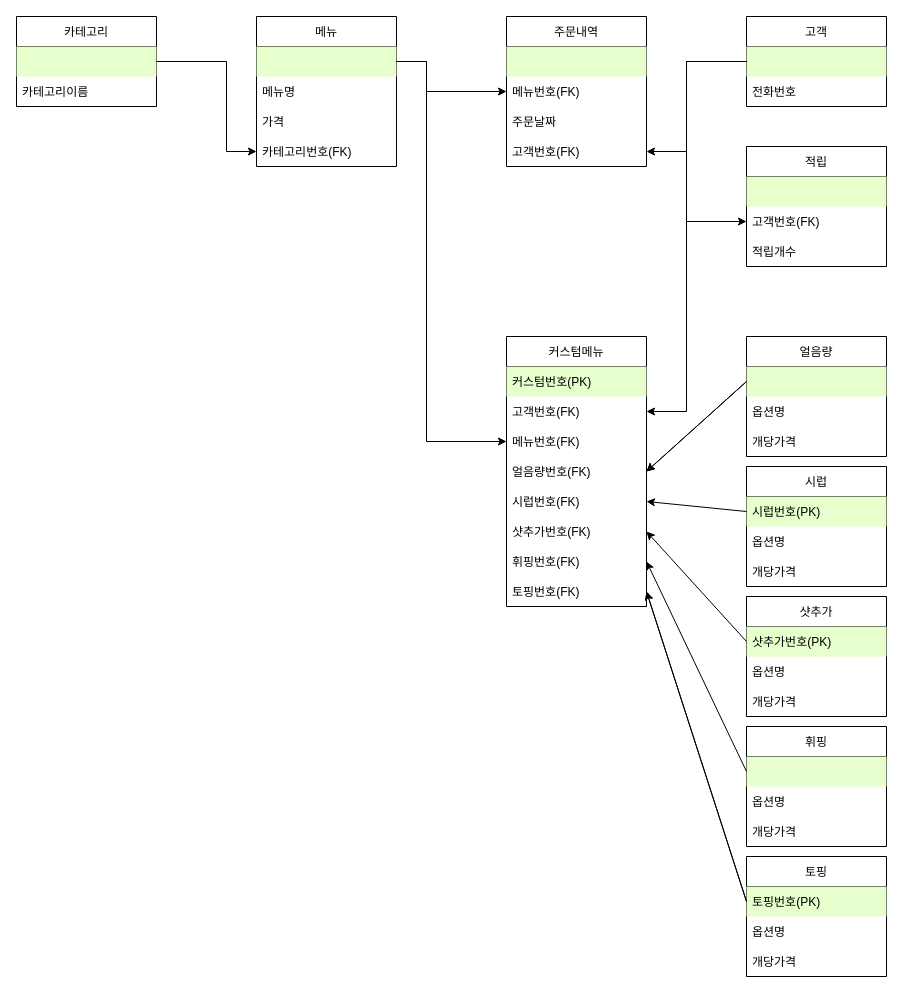
This 903x993 diagram has some shape labels left out. Here are the shapes that lost their labels. From the top down, the centre of each, then its label:
At [86,61]: "카테고리번호(PK)".
At [326,61]: "메뉴번호(PK)".
At [576,61]: "주문번호(PK)".
At [816,61]: "고객번호(PK)".
At [816,191]: "적립번호(PK)".
At [816,381]: "얼음량번호(PK)".
At [816,771]: "휘핑번호(PK)".
